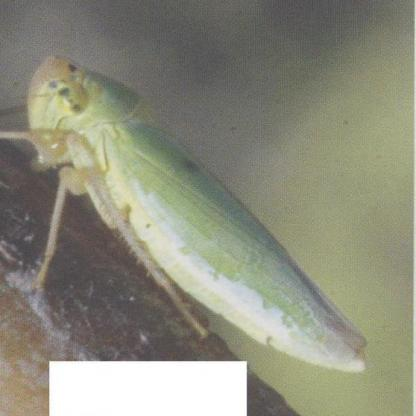Green-Leafhopper: (0, 52, 379, 376)
